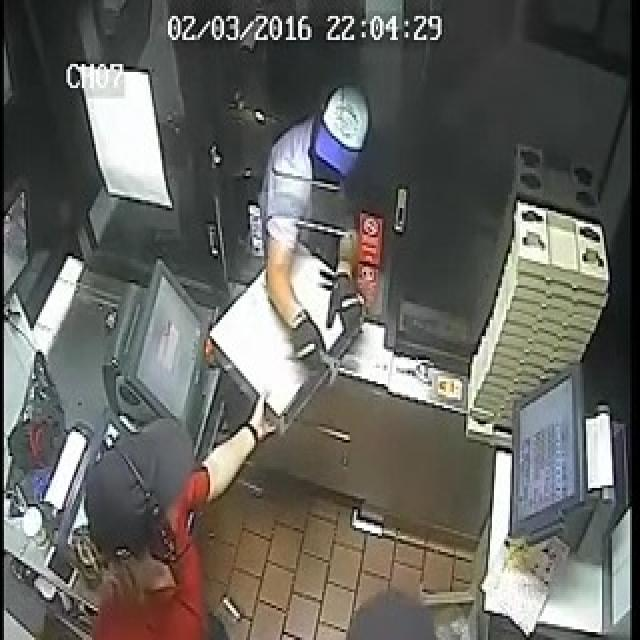thief: (287, 88, 370, 238)
